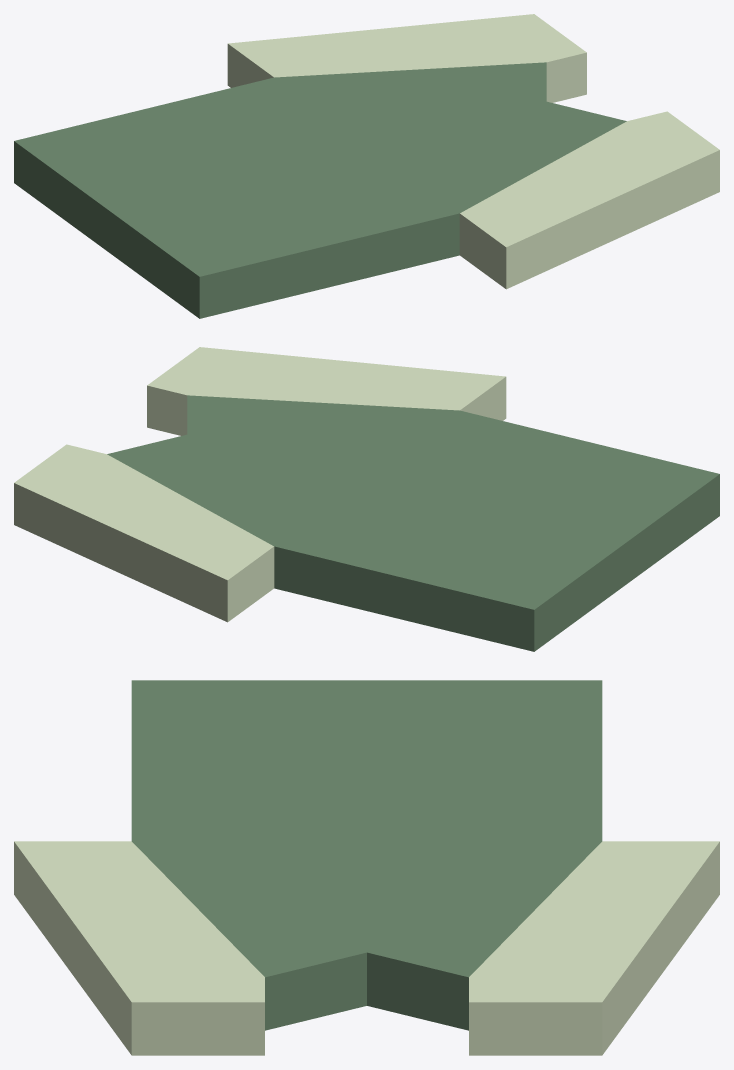
File: MilitaryVest.fbx
3 renders of one model, top to bottom at view 1: azimuth 30°, elevation 25°; view 2: azimuth 150°, elevation 25°; view 3: azimuth 270°, elevation 25°, orthographic. The views are drawn at different scales.
Parts seen in each view (by area): view 1: MilitaryVest; view 2: MilitaryVest; view 3: MilitaryVest.
Part boxes in pixels (x1,y1,x2,y2): MilitaryVest: [14, 14, 719, 318]; MilitaryVest: [14, 347, 719, 651]; MilitaryVest: [14, 680, 719, 1055].
Bounding box in the file's own units: 0.5096 × 0.0394 × 0.4724.
